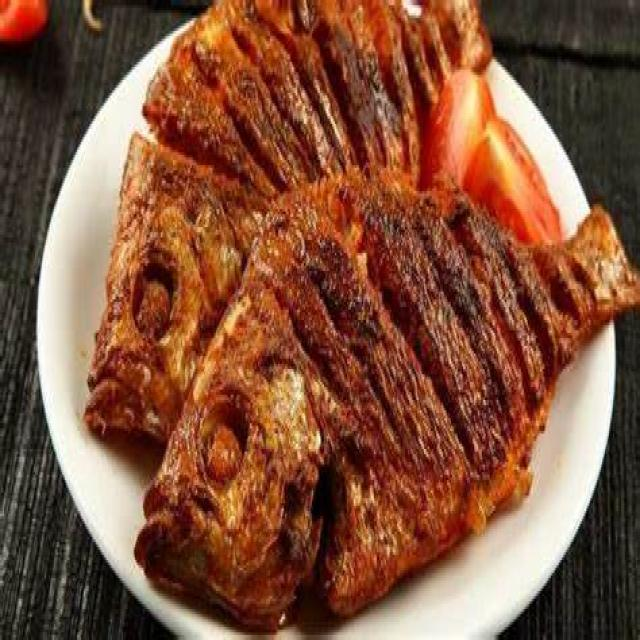Ikan Bakar: (117, 192, 626, 614)
